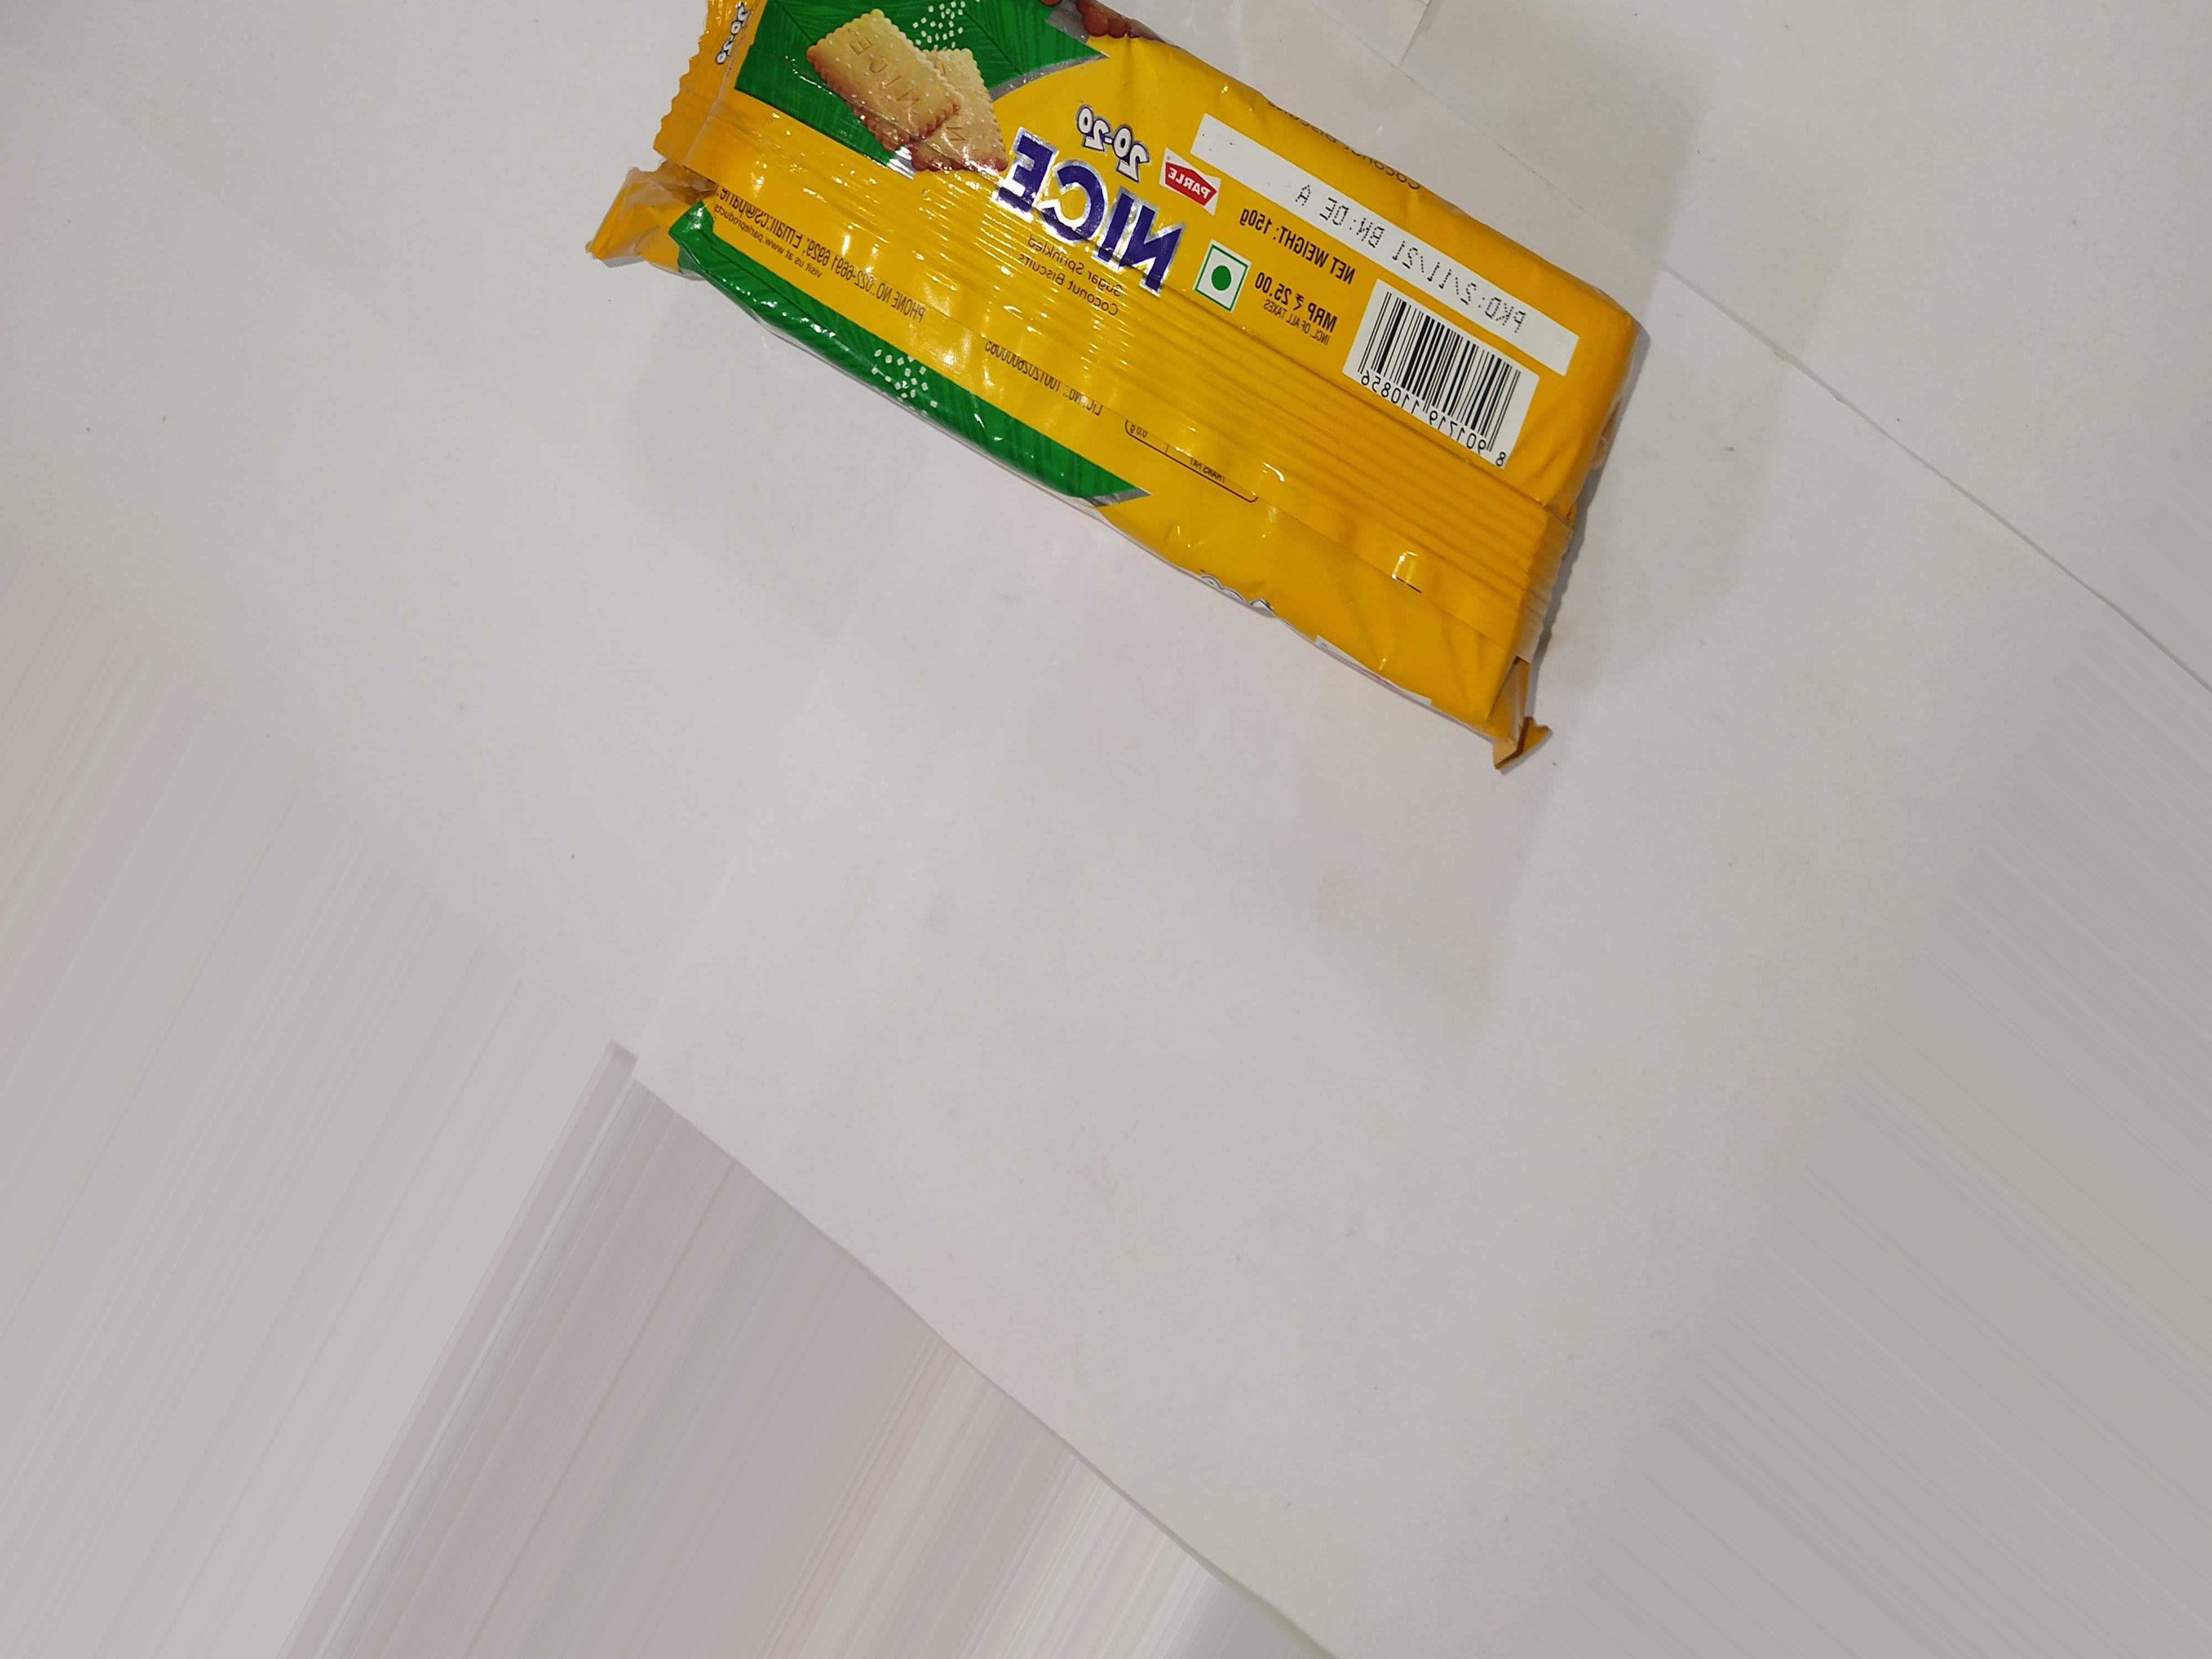Bar_code: (1322, 270, 1548, 493)
Item: (604, 0, 1672, 889)
